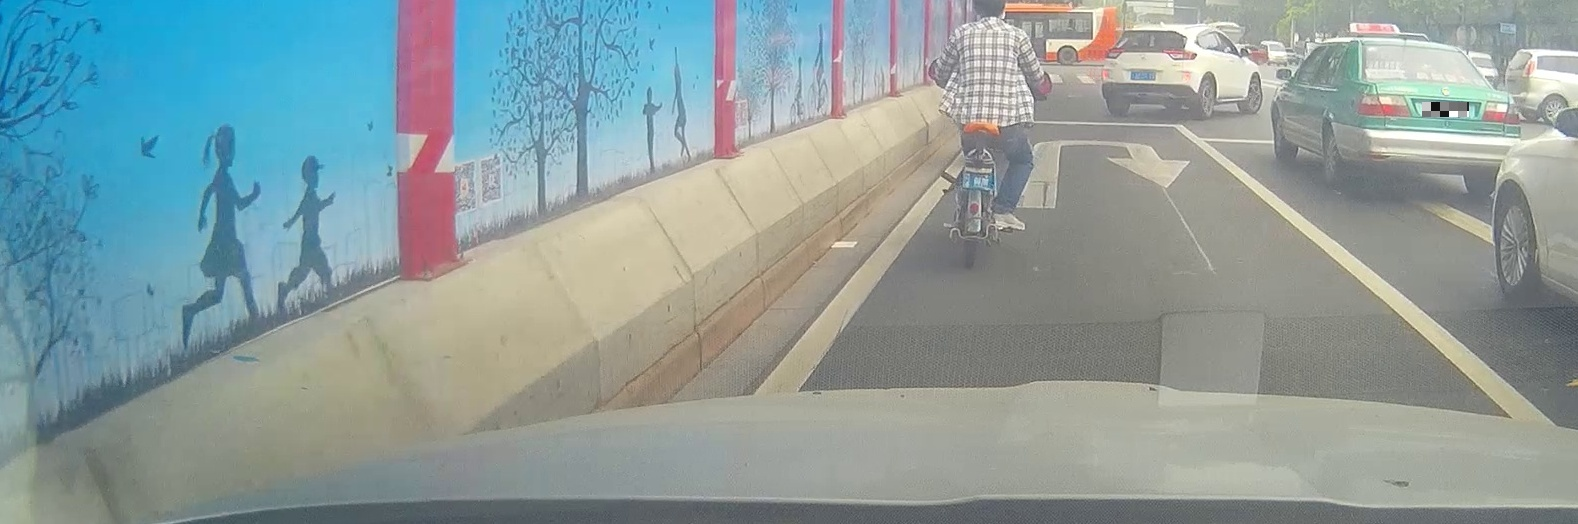L_light: (1358, 93, 1412, 117), (1104, 47, 1123, 58)
R_light: (1483, 101, 1518, 124), (1161, 48, 1198, 60)
T_light: (1409, 46, 1430, 53), (1142, 32, 1154, 35)
day-no: (1356, 39, 1520, 197)
day-right: (1101, 26, 1200, 121)
plate_1: (1422, 102, 1469, 117)
